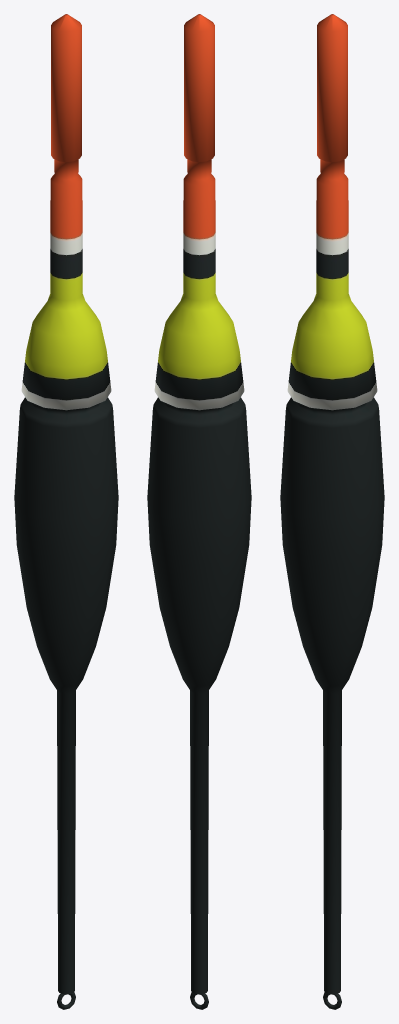
3 views of the same model, side by side, from view 1: azimuth 30°, elevation 25°; view 2: azimuth 150°, elevation 25°; view 3: azimuth 330°, elevation 25° (orthographic).
Visible parts, largest first — view 1: F51_Float; view 2: F51_Float; view 3: F51_Float.
Part boxes in pixels (x1,y1,x2,y2): F51_Float: [14, 14, 118, 1009]; F51_Float: [147, 14, 251, 1009]; F51_Float: [280, 14, 384, 1009].
Bounding box in the file's own units: 1.81 × 19 × 1.81.
1 material, 1 textured.
